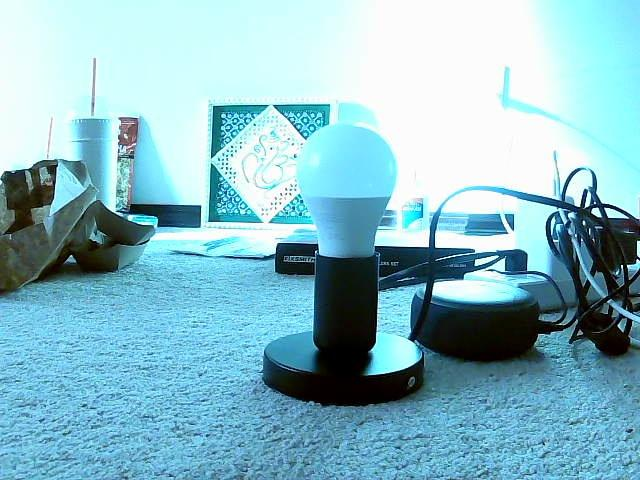Fan: (294, 124, 407, 224)
